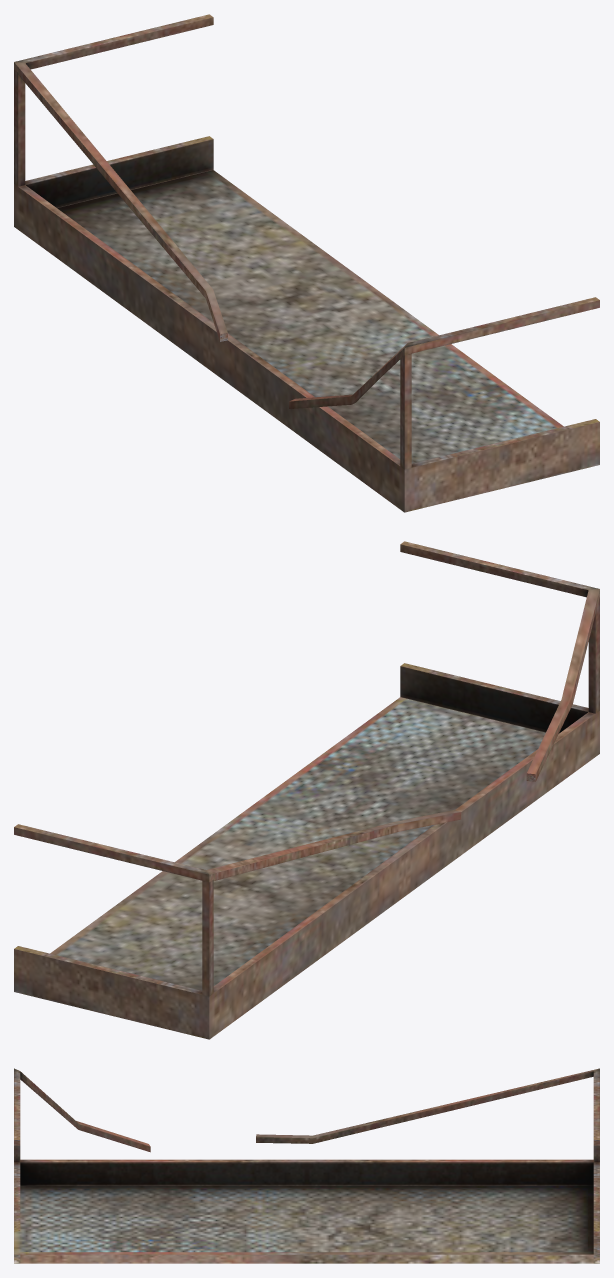
The model's file is A4_BalconyExit.FBX.
The picture shows the model from 3 angles, top to bottom: view 1: azimuth 30°, elevation 25°; view 2: azimuth 150°, elevation 25°; view 3: azimuth 270°, elevation 25°; orthographic projection. The views are drawn at different scales.
Visible parts, largest first — view 1: A4_BalconyExit; view 2: A4_BalconyExit; view 3: A4_BalconyExit.
Boxes of the visible parts, x1,y1,x2,y2 form: A4_BalconyExit: [14, 14, 599, 512]; A4_BalconyExit: [14, 541, 599, 1039]; A4_BalconyExit: [14, 1068, 599, 1263].
Bounding box in the file's own units: 153 × 109 × 467.
